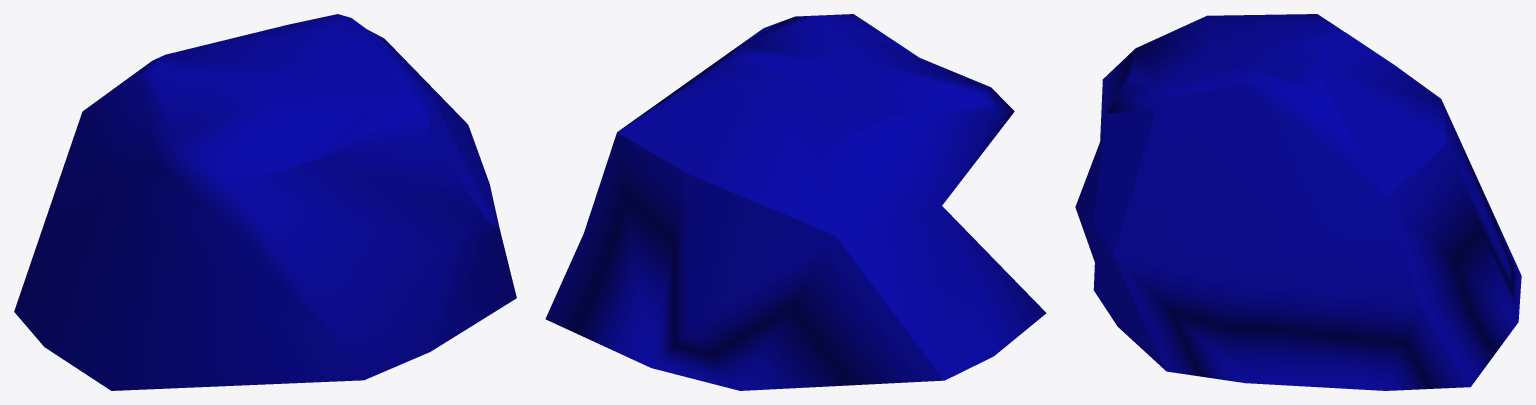
File: Rock_2.fbx
3 views of the same model, side by side, from view 1: azimuth 30°, elevation 25°; view 2: azimuth 150°, elevation 25°; view 3: azimuth 270°, elevation 25° (orthographic). The views are drawn at different scales.
Parts seen in each view (by area): view 1: Rock_2; view 2: Rock_2; view 3: Rock_2.
Boxes of the visible parts, left/top/right/bottom form: Rock_2: left=14, top=14, right=516, bottom=390; Rock_2: left=545, top=14, right=1046, bottom=390; Rock_2: left=1075, top=14, right=1521, bottom=390.
Size of the model in its own units: 7.69 by 4.64 by 7.51.
